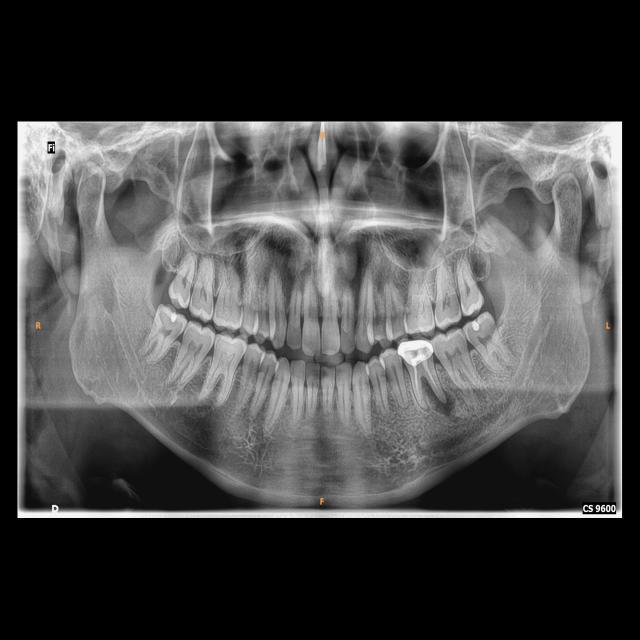dentin-curugu: (312, 366, 321, 381), (322, 366, 329, 383)
dolgu: (464, 317, 486, 335), (163, 311, 181, 325)
kanal-tedavisi: (411, 366, 424, 402), (424, 360, 438, 388)
kaplama: (391, 338, 433, 362)
kok-enfeksiyonu: (424, 380, 459, 421)
